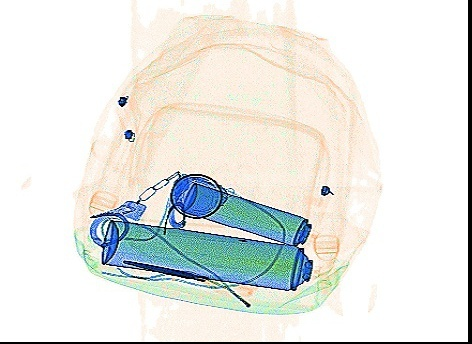handcuffs: (83, 168, 228, 249)
pressure: (98, 218, 320, 294), (180, 180, 318, 245)
scissors: (120, 252, 256, 298)
